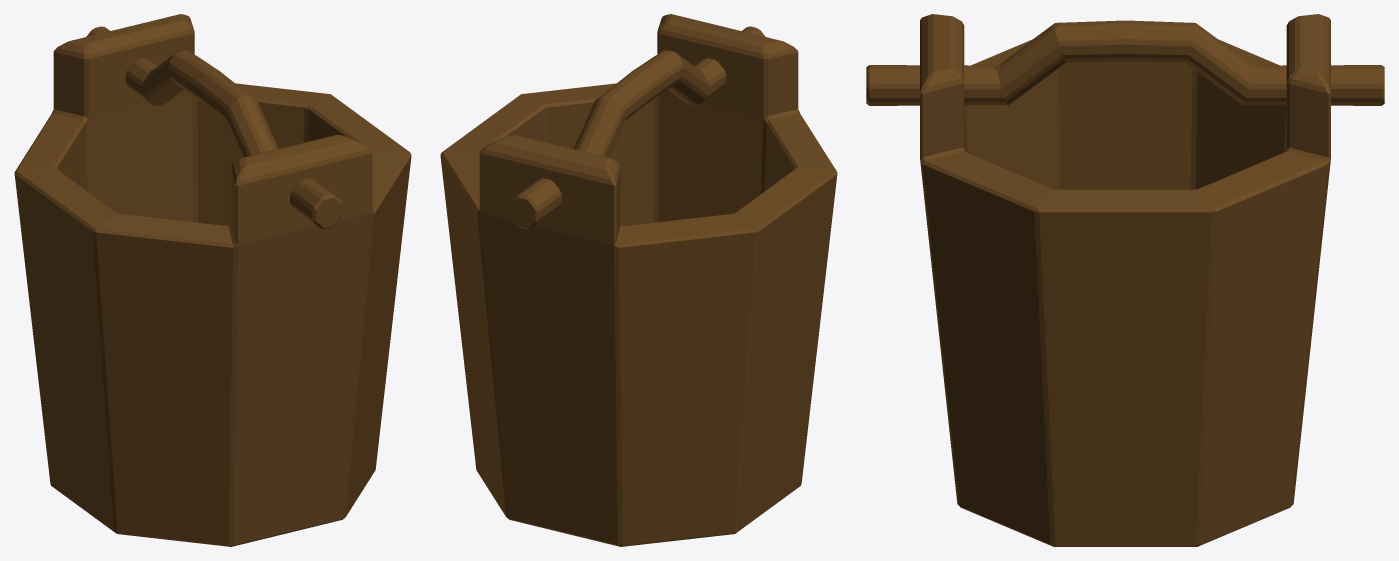
The model's file is Bucket.fbx.
The picture shows the model from 3 angles, left to right: view 1: azimuth 30°, elevation 25°; view 2: azimuth 150°, elevation 25°; view 3: azimuth 270°, elevation 25°; orthographic projection. The views are drawn at different scales.
Parts seen in each view (by area): view 1: Bucket; view 2: Bucket; view 3: Bucket.
Part boxes in pixels (x1,y1,x2,y2): Bucket: (14, 14, 411, 546); Bucket: (440, 14, 837, 546); Bucket: (866, 14, 1384, 546).
Size of the model in its own units: 77.68 by 95.04 by 98.11.
